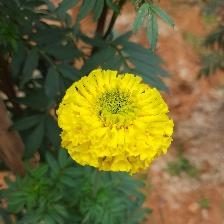marigold: (54, 66, 180, 177)
